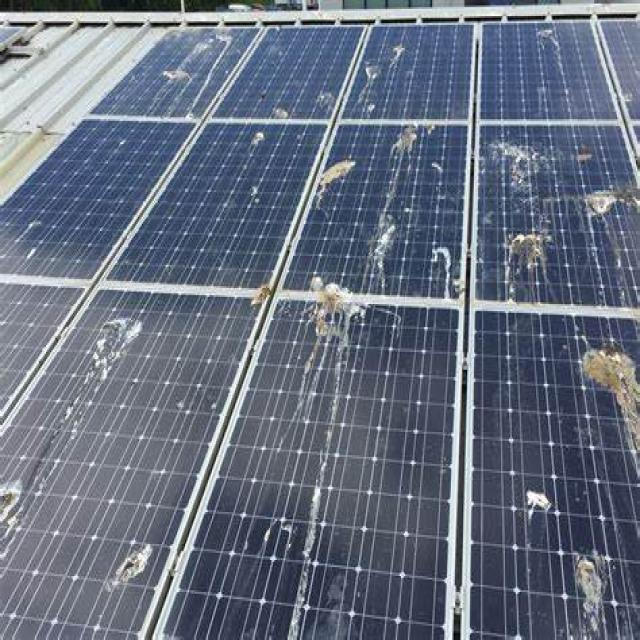dust-solar-panel: (0, 21, 640, 640)
